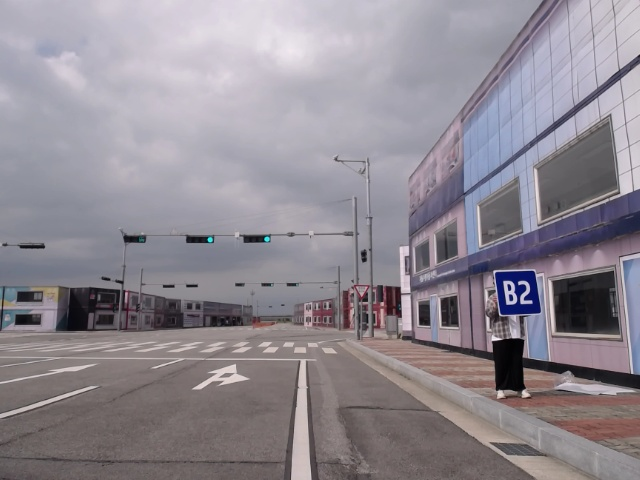delivery_b2: (493, 268, 543, 318)
straight_green_4: (242, 233, 273, 245), (184, 235, 216, 244), (285, 281, 302, 289), (260, 281, 276, 289)
